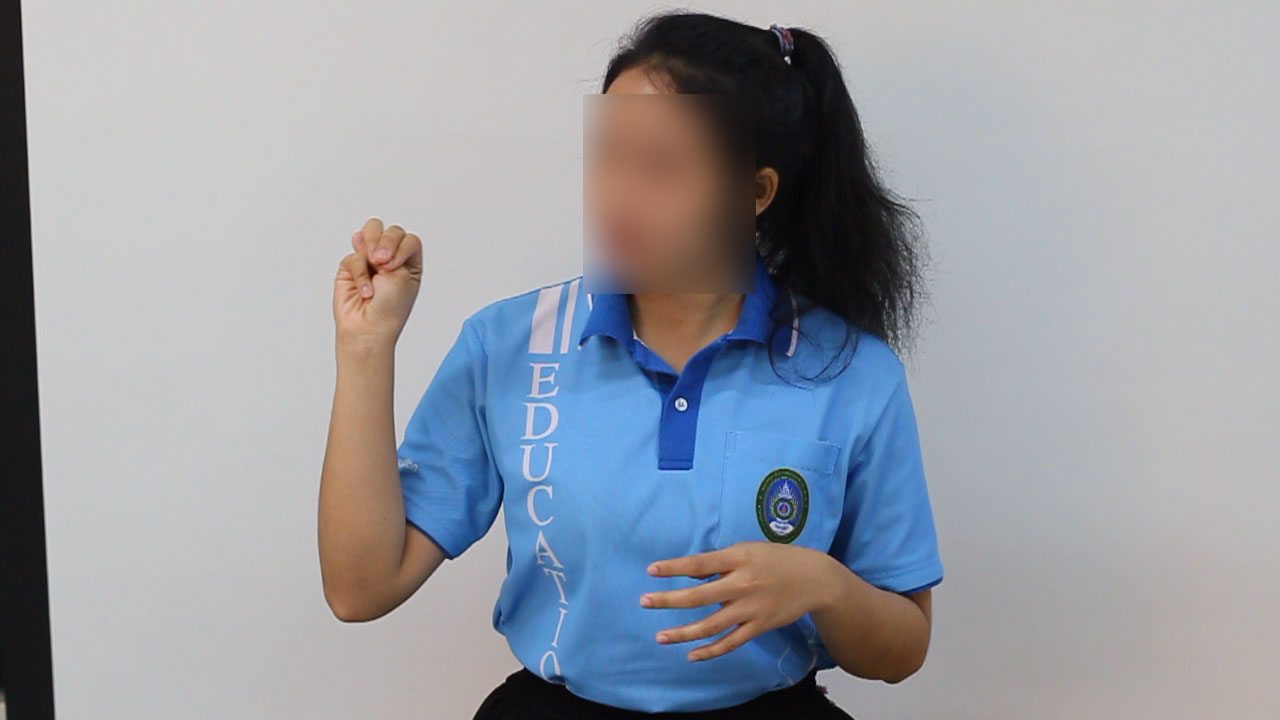mor: (321, 192, 431, 370)
